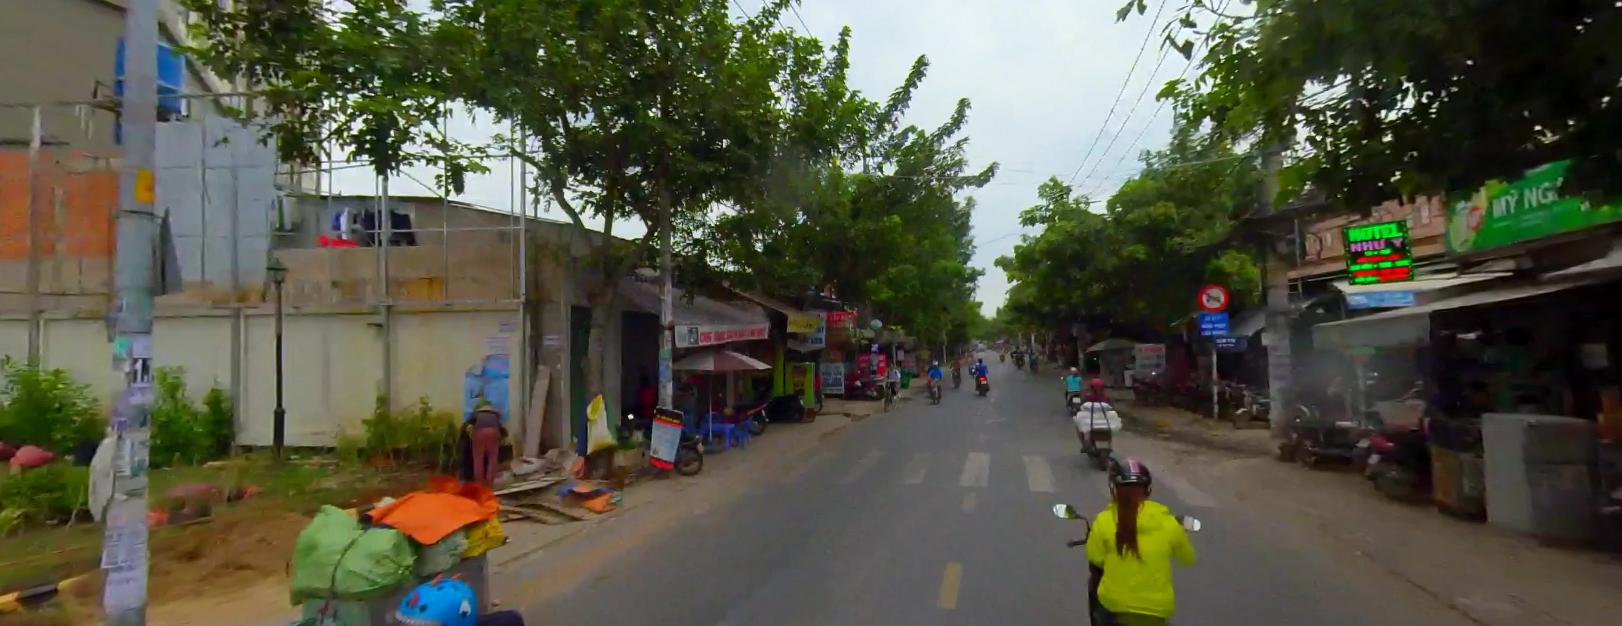Cam con lai: (1196, 282, 1228, 309)
